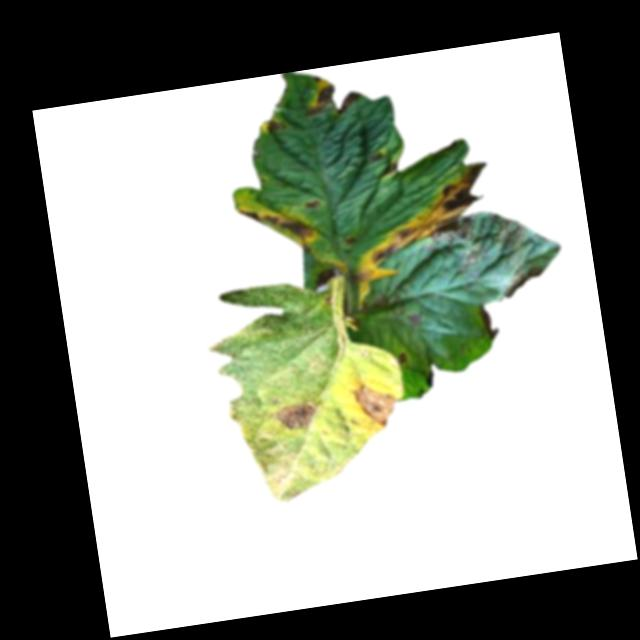Early_blight: (341, 161, 502, 284), (430, 207, 529, 274), (236, 200, 316, 251), (301, 80, 365, 123), (351, 378, 400, 431), (502, 266, 547, 300), (276, 401, 319, 432), (477, 304, 503, 341), (264, 118, 283, 137), (306, 200, 322, 211), (397, 351, 407, 365)
